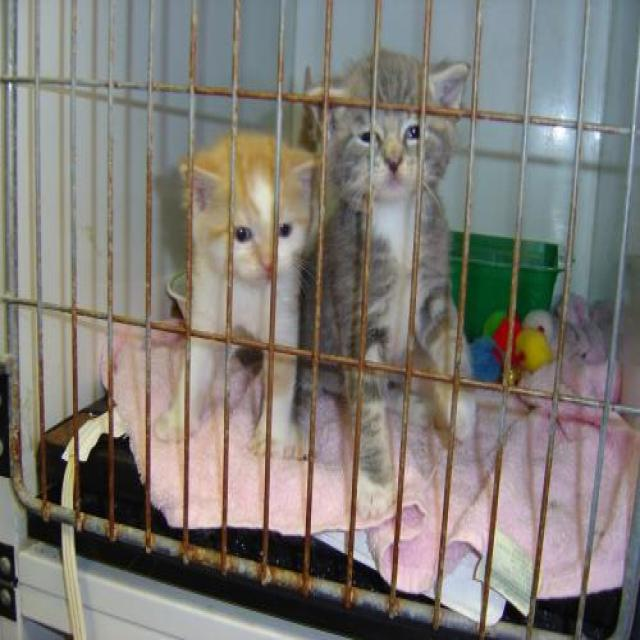Cats: (293, 46, 476, 515), (151, 128, 321, 457)
